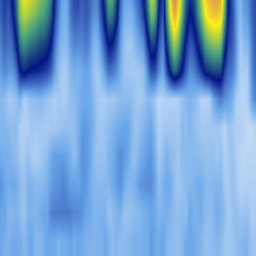defect: (1, 1, 59, 81), (194, 1, 233, 92), (163, 1, 193, 85), (136, 1, 163, 73), (100, 1, 121, 67)
